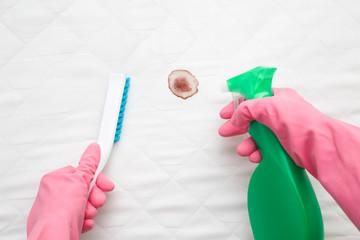gun: (165, 65, 200, 101)
